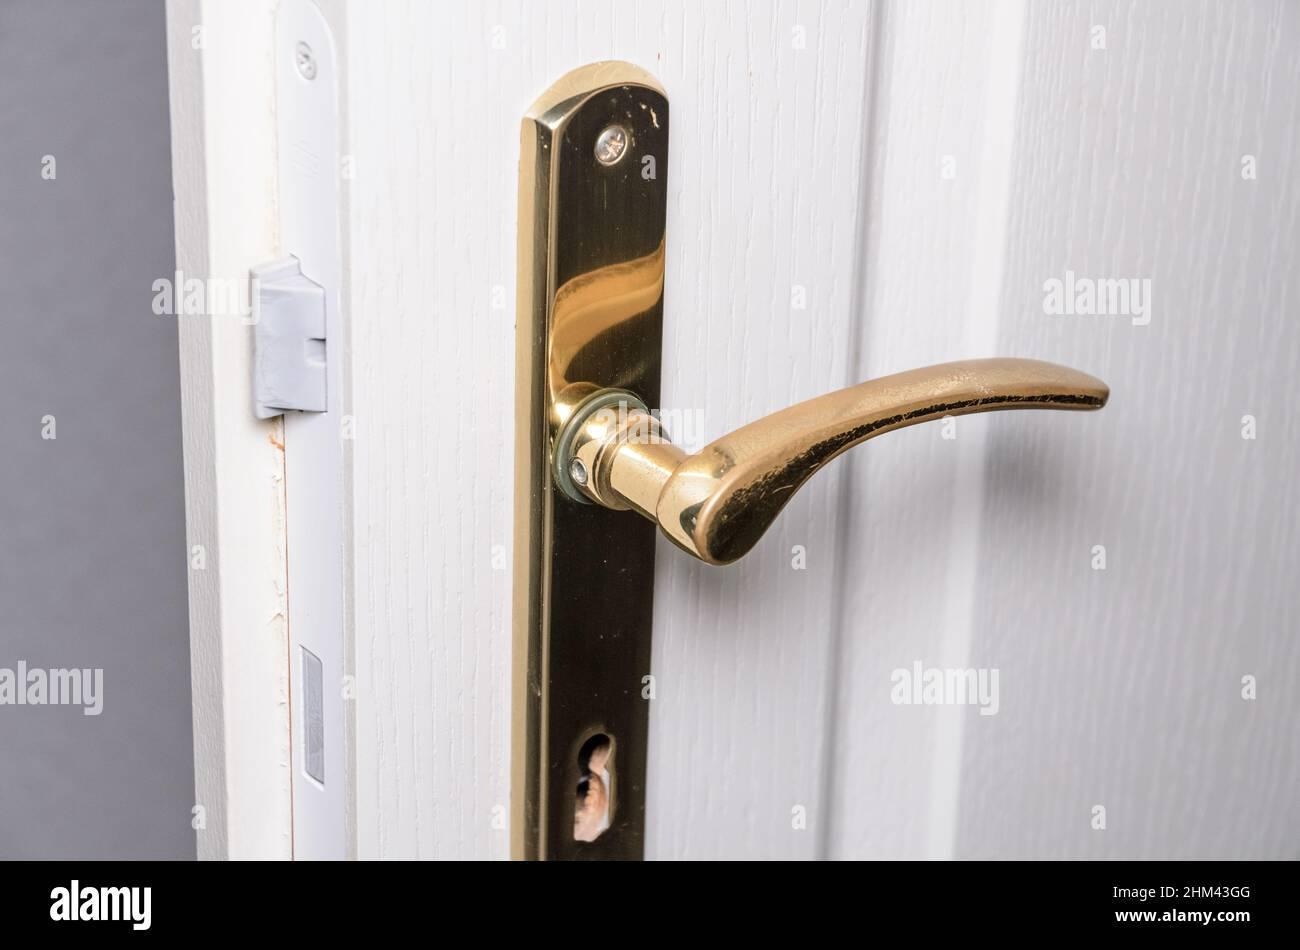doorhandle: (499, 293, 1165, 585)
